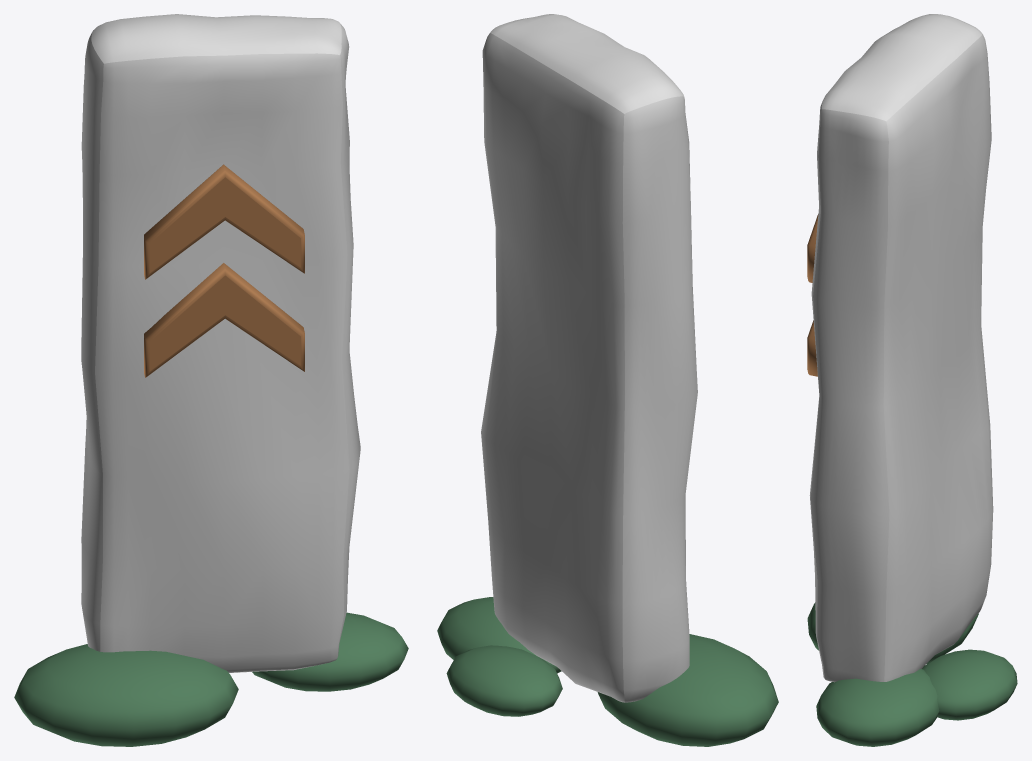
The model's file is veilleur-stone.glb.
3 views of the same model, side by side, from view 1: azimuth 30°, elevation 25°; view 2: azimuth 150°, elevation 25°; view 3: azimuth 270°, elevation 25° (orthographic). The views are drawn at different scales.
Visible parts, largest first — view 1: titan.veilleur.stone, titan.veilleur.moss.0, titan.veilleur.sign.0, titan.veilleur.sign.1, titan.veilleur.moss.1; view 2: titan.veilleur.stone, titan.veilleur.moss.0, titan.veilleur.moss.2, titan.veilleur.moss.1; view 3: titan.veilleur.stone, titan.veilleur.moss.1, titan.veilleur.moss.2, titan.veilleur.moss.0, titan.veilleur.sign.1, titan.veilleur.sign.0.
Part boxes in pixels (x1,y1,x2,y2): titan.veilleur.stone: (81, 14, 360, 672); titan.veilleur.moss.0: (14, 644, 238, 746); titan.veilleur.sign.0: (144, 164, 304, 279); titan.veilleur.sign.1: (144, 263, 304, 377); titan.veilleur.moss.1: (252, 612, 408, 691); titan.veilleur.stone: (481, 14, 697, 702); titan.veilleur.moss.0: (597, 634, 778, 746); titan.veilleur.moss.2: (446, 645, 562, 716); titan.veilleur.moss.1: (437, 597, 561, 673); titan.veilleur.stone: (809, 14, 993, 682); titan.veilleur.moss.1: (816, 669, 939, 746); titan.veilleur.moss.2: (922, 649, 1017, 720); titan.veilleur.moss.0: (807, 602, 978, 663); titan.veilleur.sign.1: (807, 320, 817, 376); titan.veilleur.sign.0: (807, 214, 818, 282).
Bounding box in the file's own units: 0.7579 × 1.4 × 0.4109.
